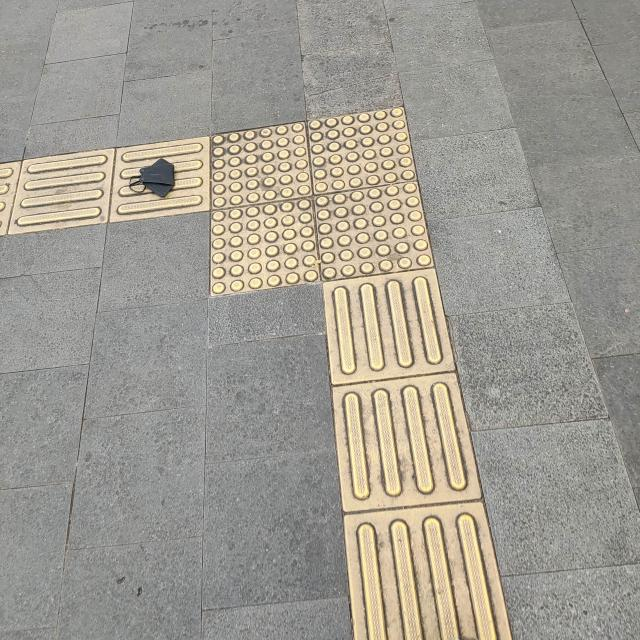kiri: (0, 68, 533, 378)
